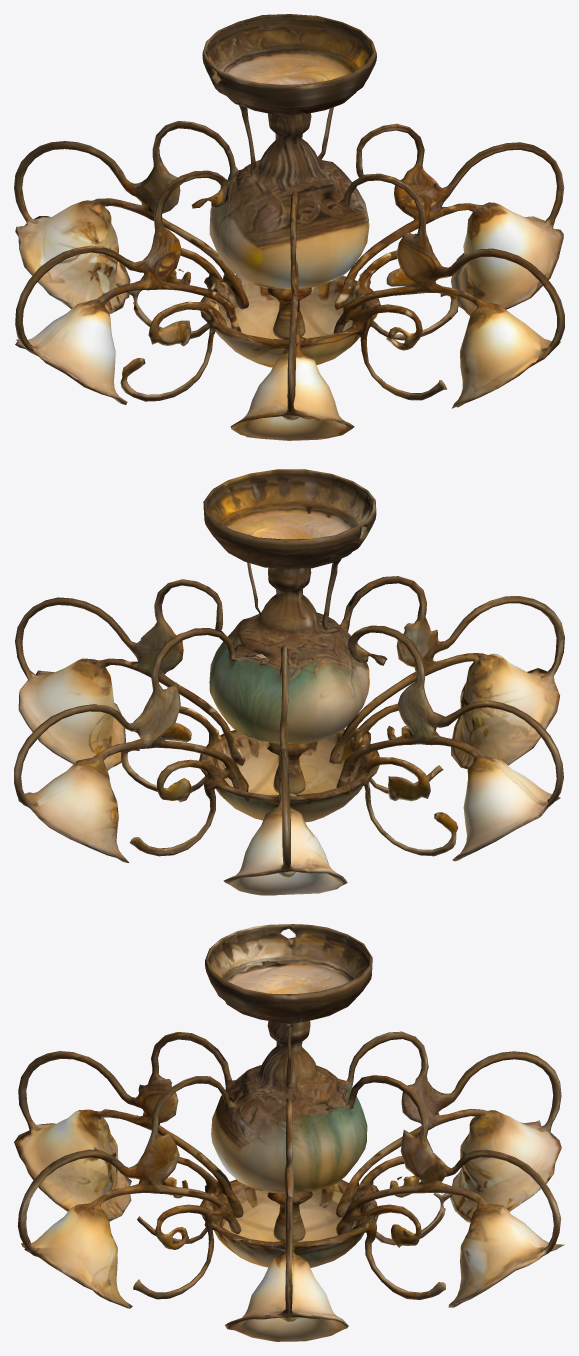
Rendered from art_nouveau_style_cei_0613163331_texture.fbx.
3 views of the same model, one above another, from view 1: azimuth 30°, elevation 25°; view 2: azimuth 150°, elevation 25°; view 3: azimuth 270°, elevation 25° (orthographic). The views are drawn at different scales.
Parts seen in each view (by area): view 1: Mesh1_Mesh1.016; view 2: Mesh1_Mesh1.016; view 3: Mesh1_Mesh1.016.
Boxes of the visible parts, <box> form: Mesh1_Mesh1.016: <box>14,14,564,440</box>; Mesh1_Mesh1.016: <box>14,469,564,895</box>; Mesh1_Mesh1.016: <box>14,924,564,1341</box>.
Bounding box in the file's own units: 199 × 119 × 177.
1 material, 1 textured.
